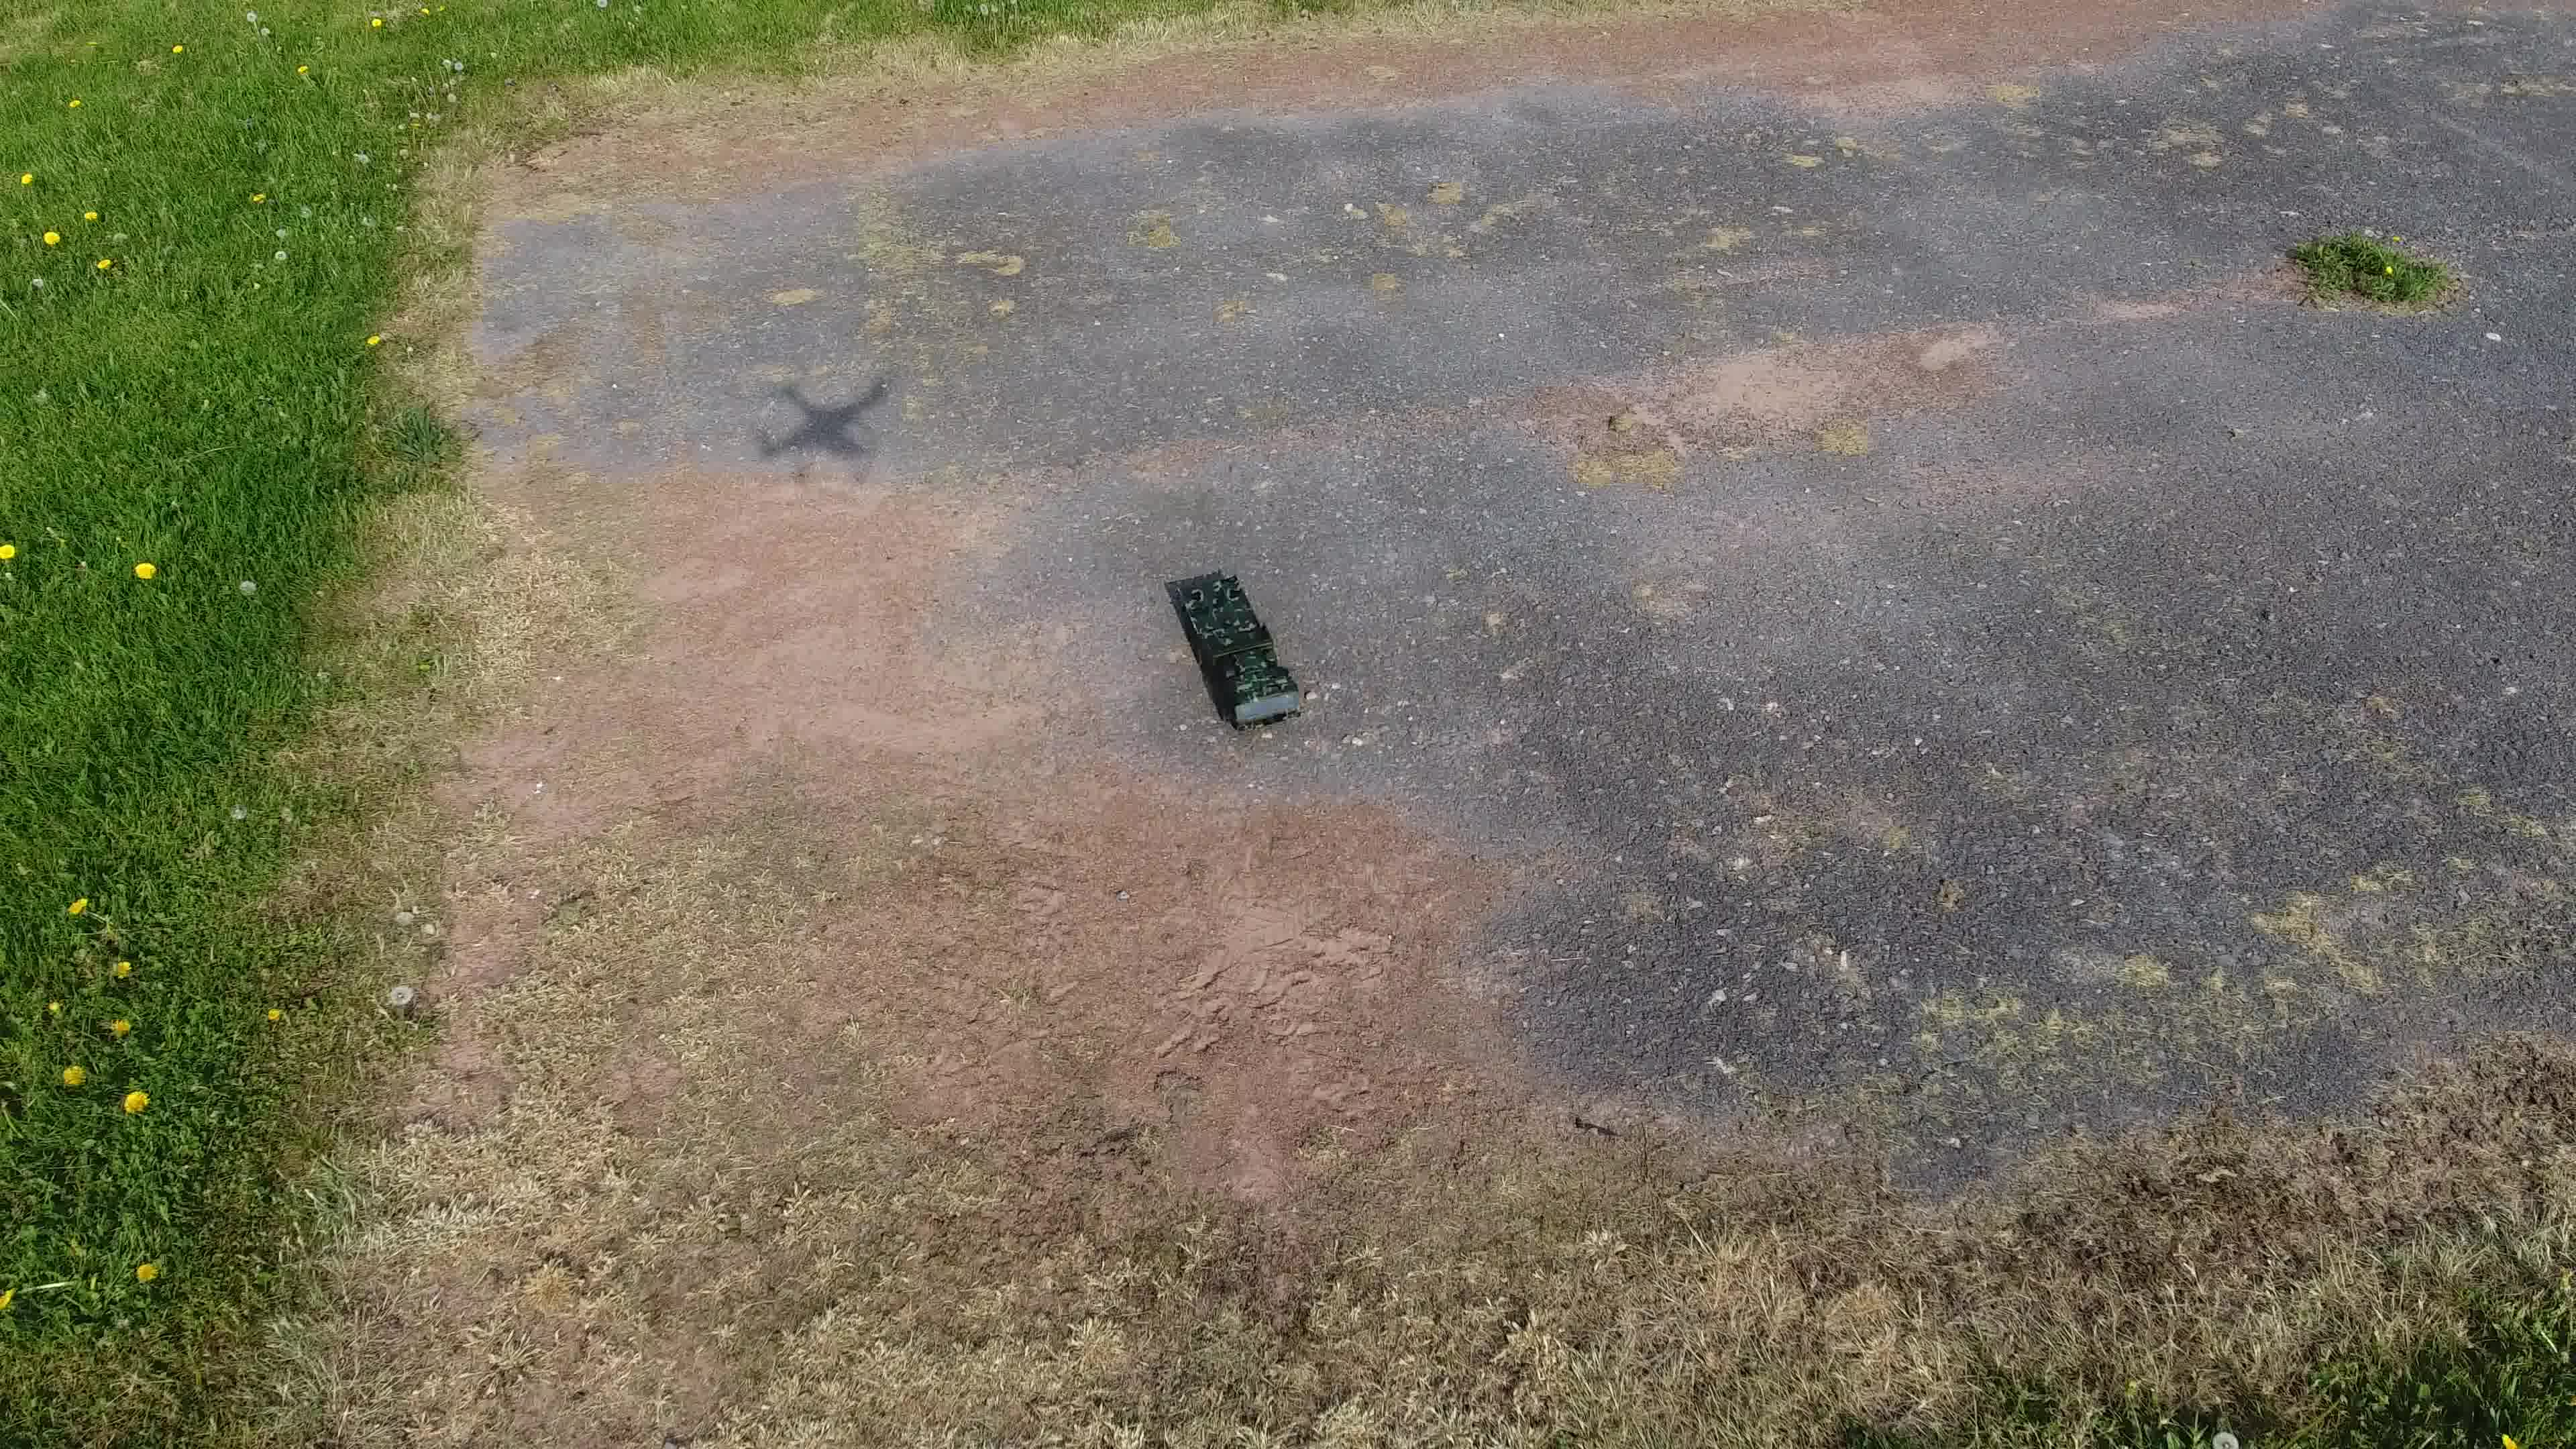transporter9_camo: (1168, 571, 1309, 736)
